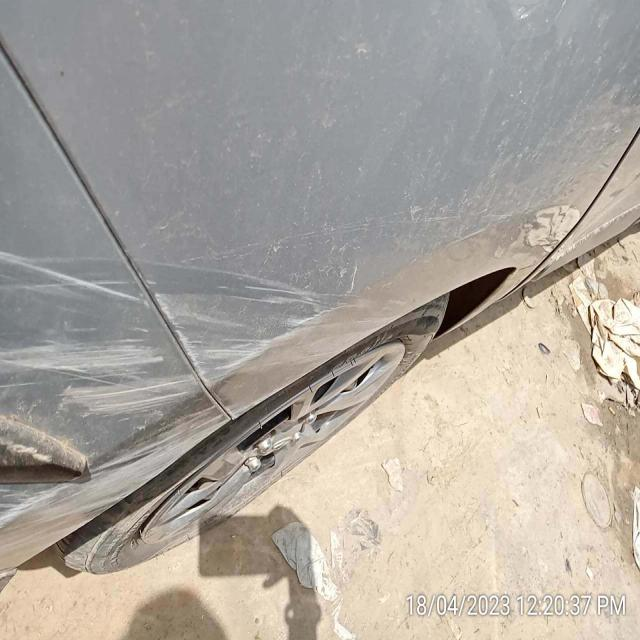damage: (163, 229, 358, 401), (0, 235, 184, 416)
